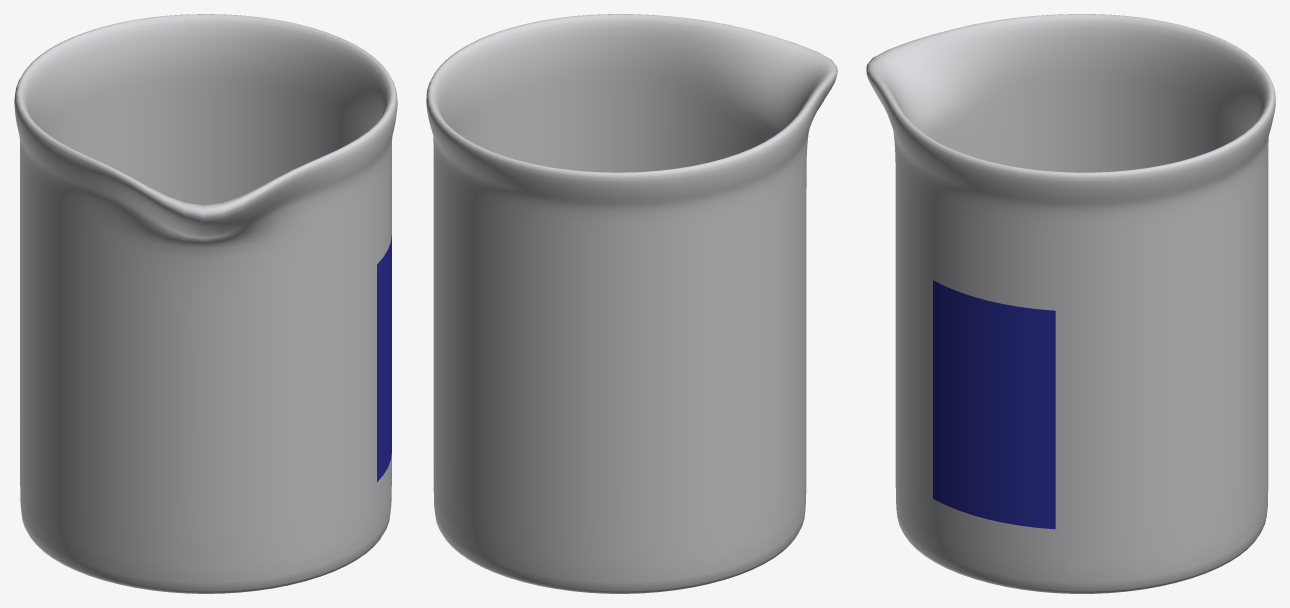
File: beaker.fbx
3 views of the same model, side by side, from view 1: azimuth 30°, elevation 25°; view 2: azimuth 150°, elevation 25°; view 3: azimuth 270°, elevation 25° (orthographic).
Visible parts, largest first — view 1: Circle.002; view 2: Circle.002; view 3: Circle.002.
Boxes of the visible parts, <box> form: Circle.002: <box>14,14,397,593</box>; Circle.002: <box>426,14,837,593</box>; Circle.002: <box>866,14,1275,593</box>.
Size of the model in its own units: 275 by 337 by 293.
